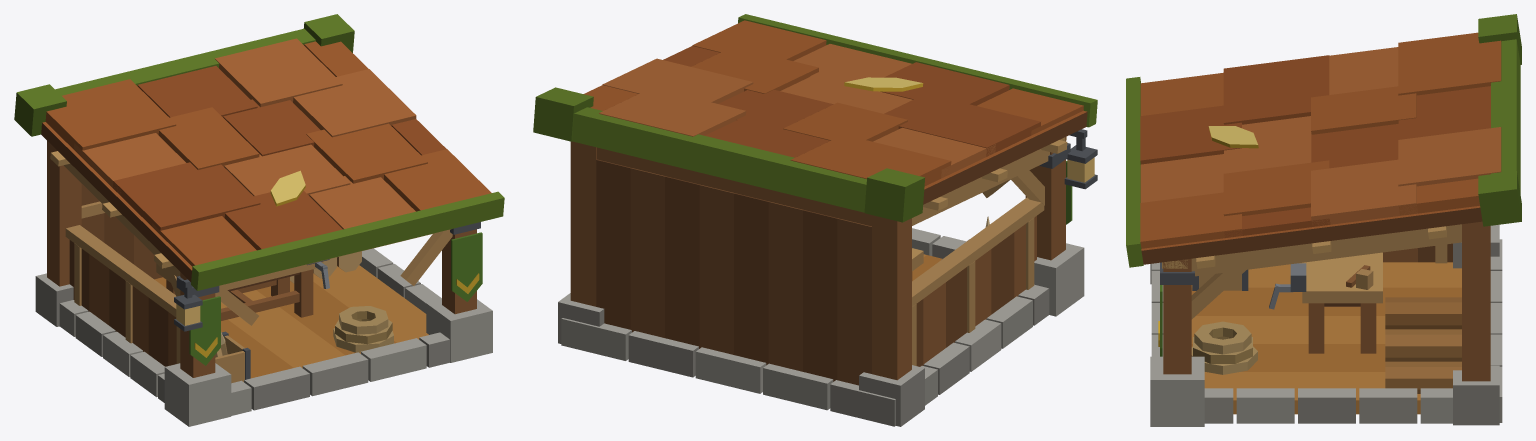
Rendered from defence_workshop.glb.
3 renders of one model, left to right at view 1: azimuth 30°, elevation 25°; view 2: azimuth 150°, elevation 25°; view 3: azimuth 270°, elevation 25°, orthographic. The views are drawn at different scales.
Visible parts, largest first — view 1: defence_workshop; view 2: defence_workshop; view 3: defence_workshop.
Boxes of the visible parts, x1,y1,x2,y2 form: defence_workshop: [14, 14, 504, 426]; defence_workshop: [533, 14, 1097, 426]; defence_workshop: [1126, 14, 1521, 426].
Bounding box in the file's own units: 3.19 × 2.06 × 3.05.
